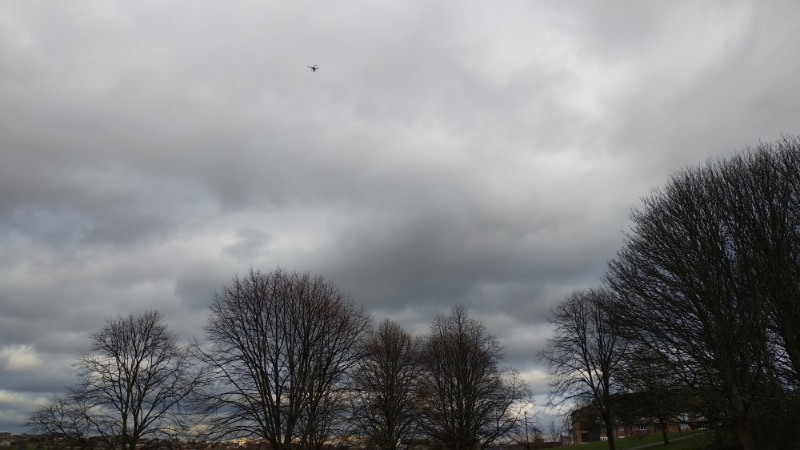drone: (307, 63, 319, 72)
